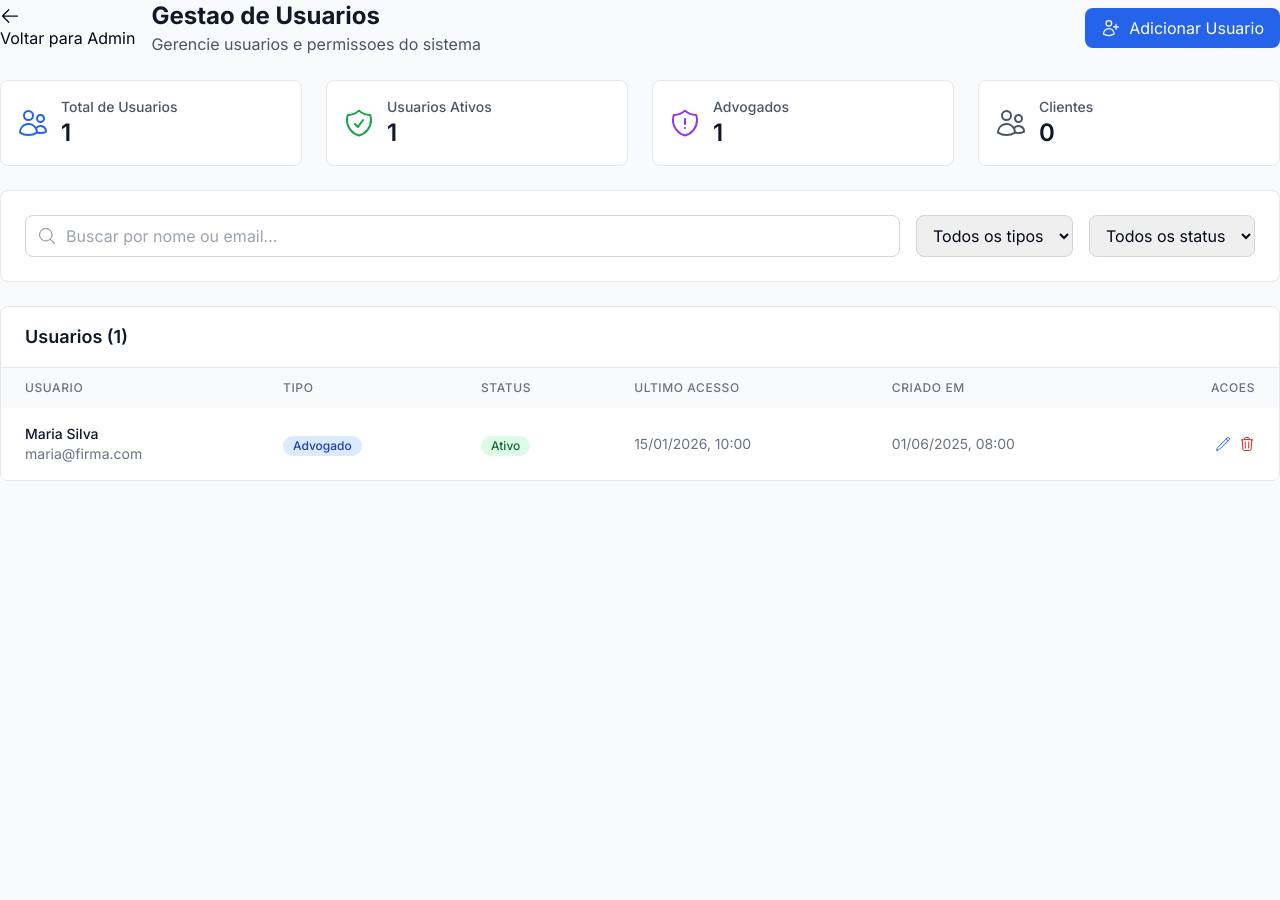
Test case: UsersManagementPage › Edit modal › pre-fills form with user data
This screenshot has width=1280, height=900.
Click the button titled "Editar".
click(1223, 444)  # box [1215,436,1231,452]
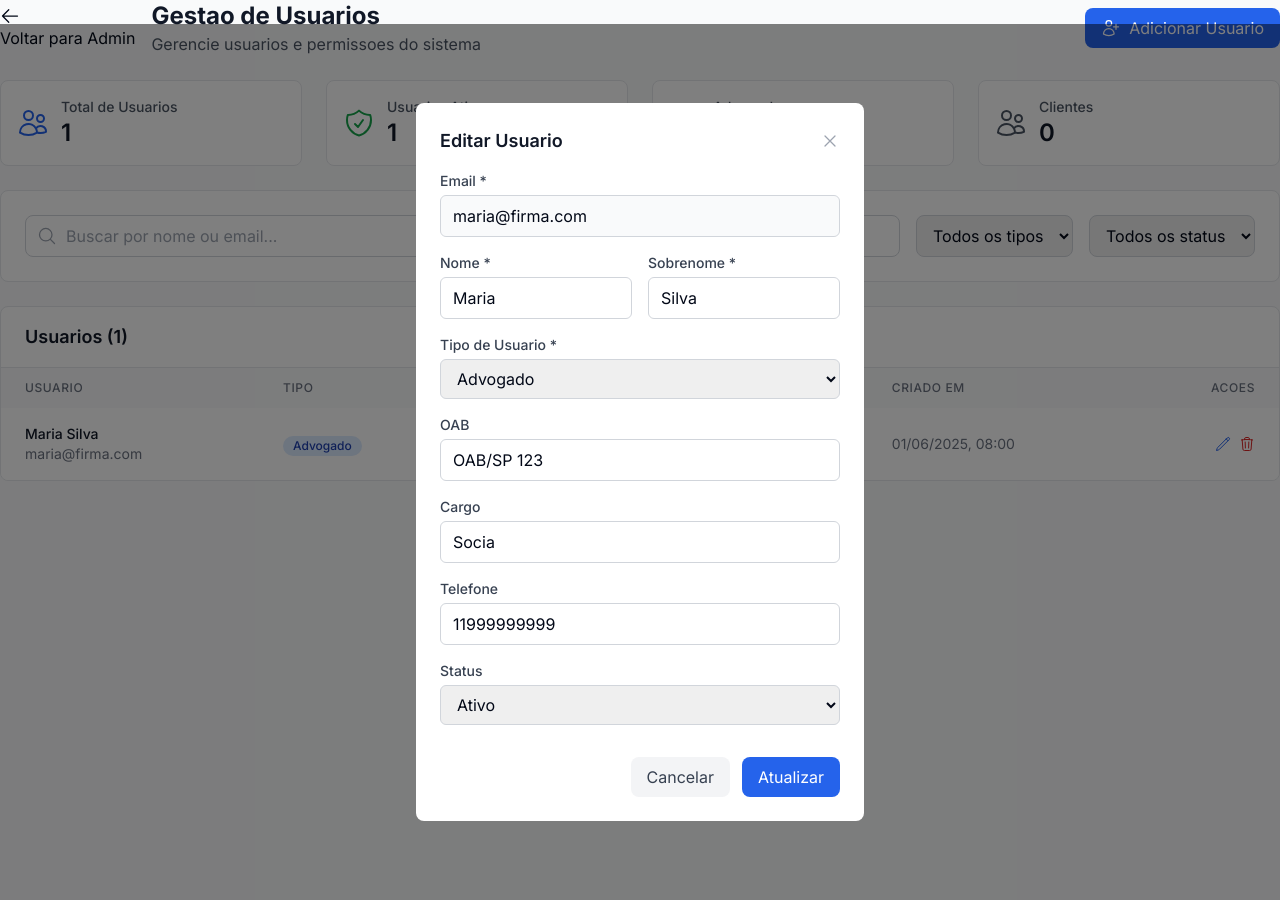
Now the field showing "maria@firma.com" below "Email *" is disabled, box [440,195,840,237]
